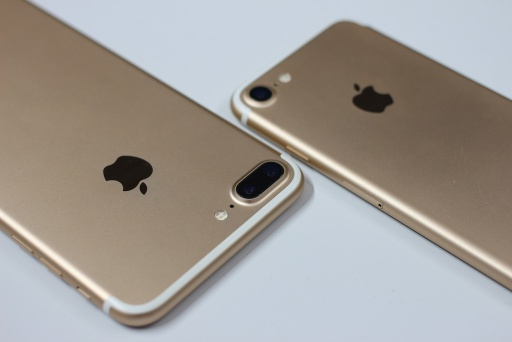apple: (81, 143, 169, 210), (338, 67, 412, 130)
